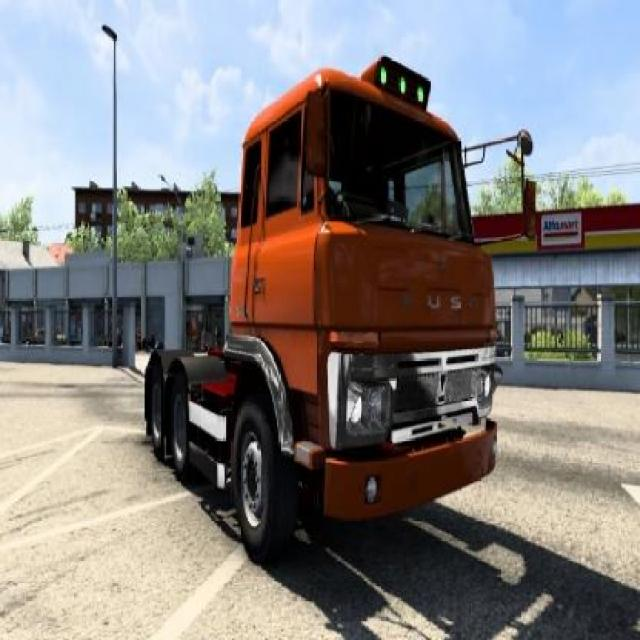truck: (133, 54, 496, 556)
